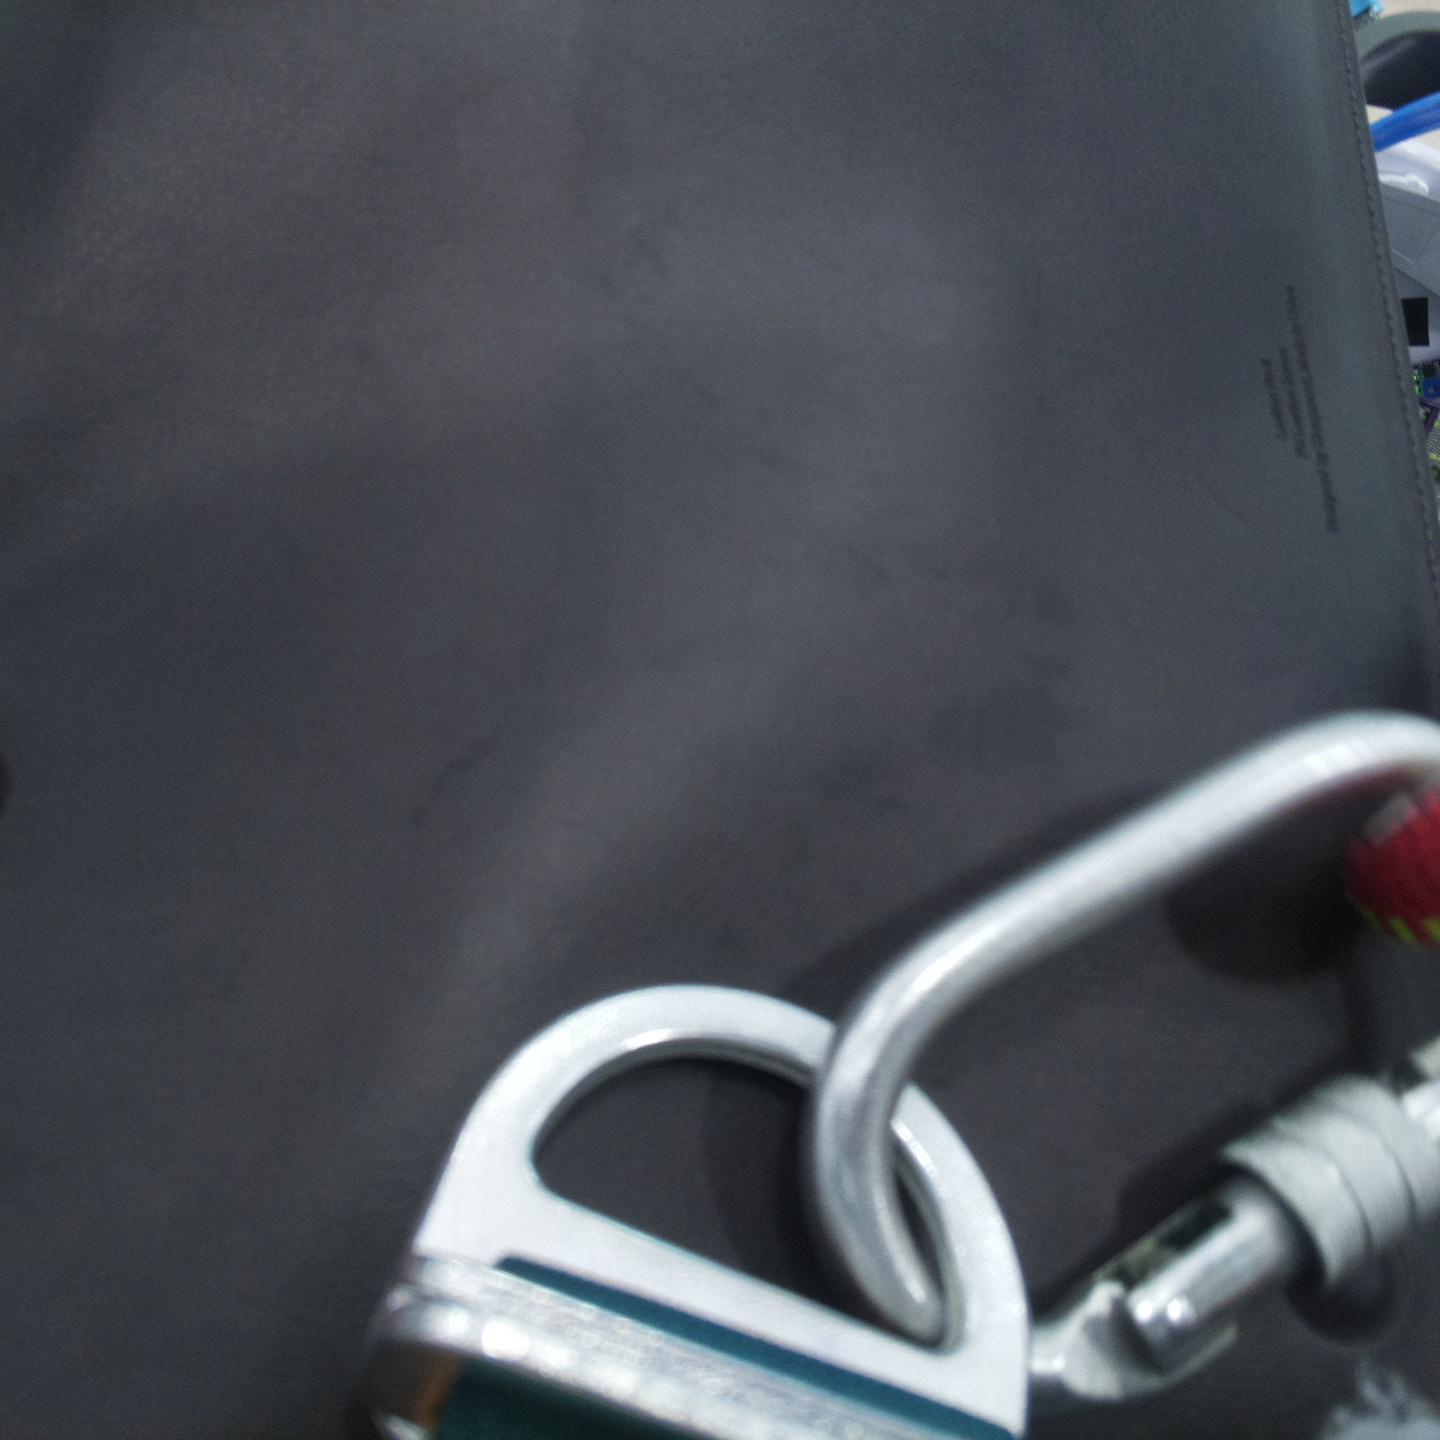SUCCESS: (452, 735, 1262, 1402)
